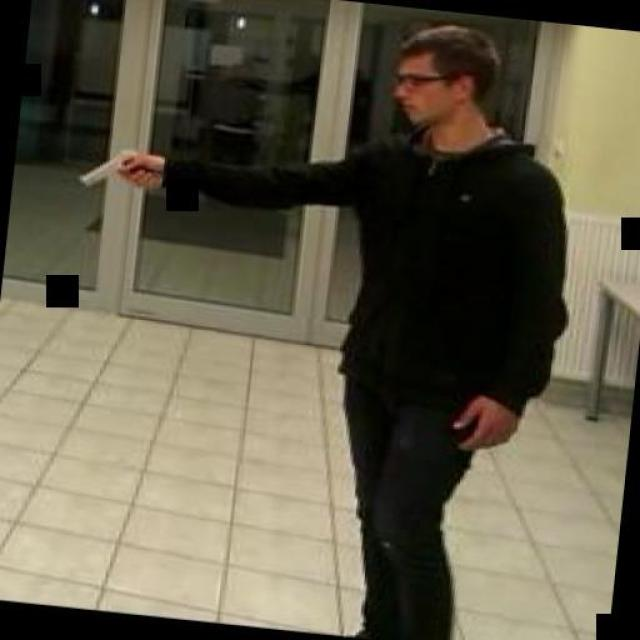gun: (74, 140, 156, 192)
